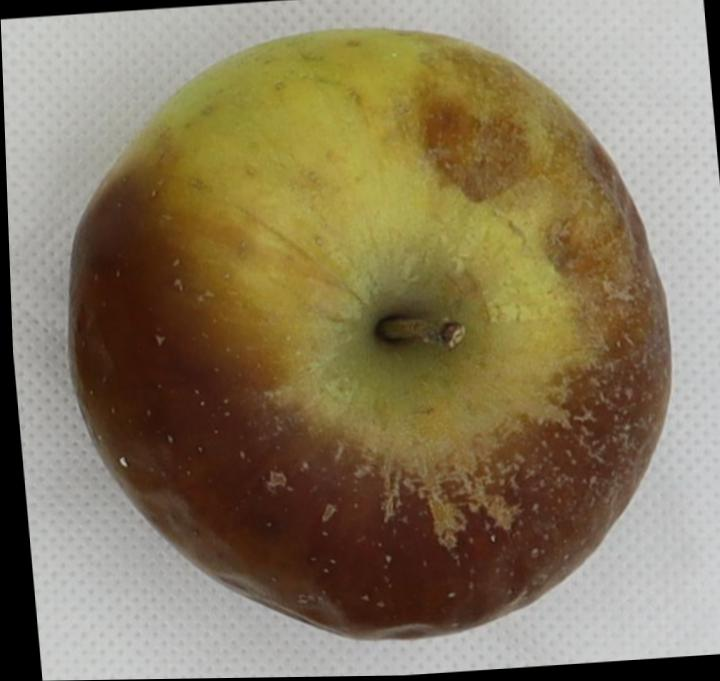apple: (69, 29, 670, 637)
rot_mold_decay: (69, 131, 670, 637), (421, 97, 528, 200)
